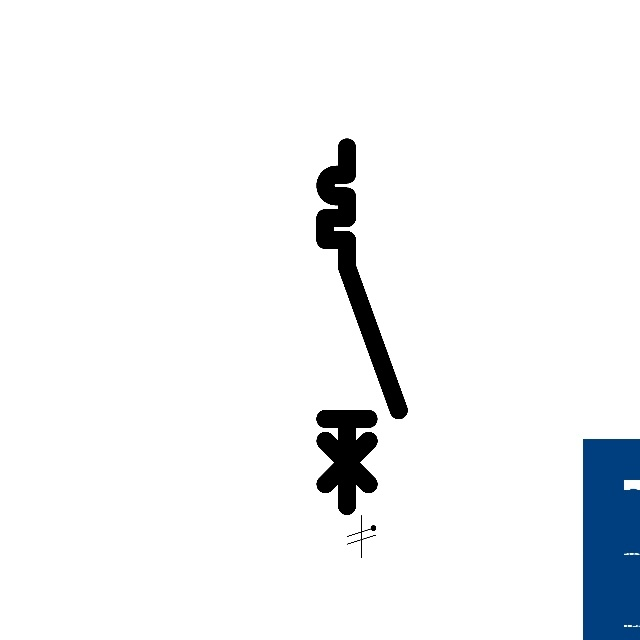interruptor_termomagnetico: (316, 138, 408, 515)
